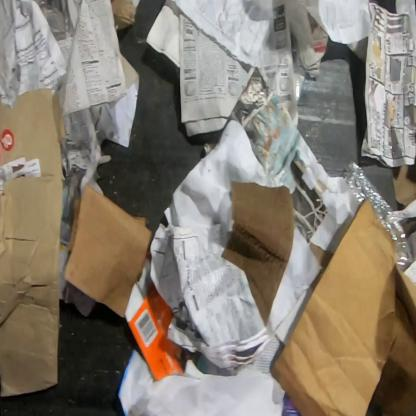cardboard: (270, 198, 415, 415), (0, 88, 67, 398), (63, 184, 152, 318), (221, 180, 294, 328), (123, 248, 185, 382), (109, 0, 138, 25)
rigid_plastic: (343, 161, 414, 274)
